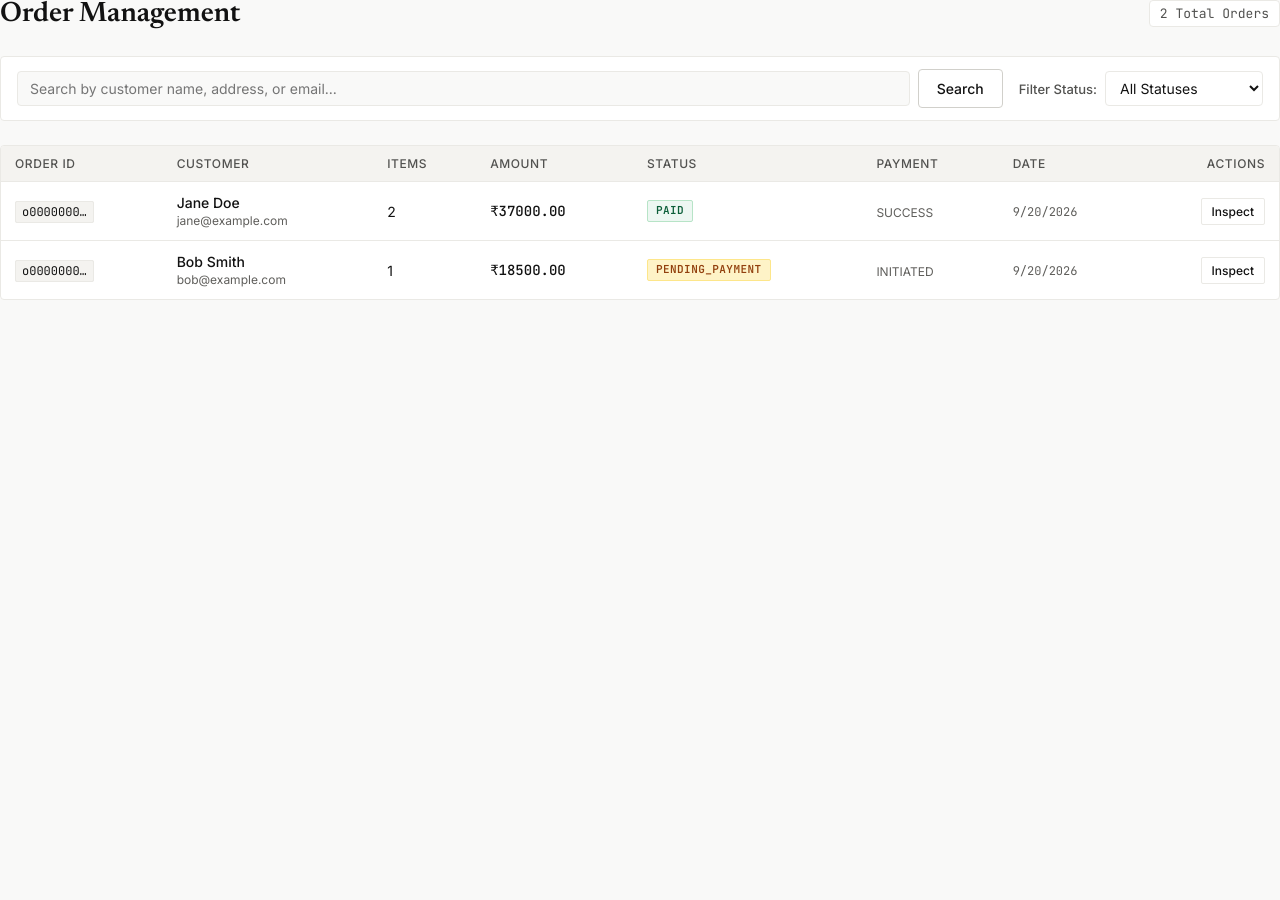
Test: AdminOrders Component (Phase 07.26B) › opens order detail inspector on inspect button click
Click the button "Inspect" in the row of "Jane Doe". click: (1233, 211)
box: [1201,198,1265,224]
(page scrolled)
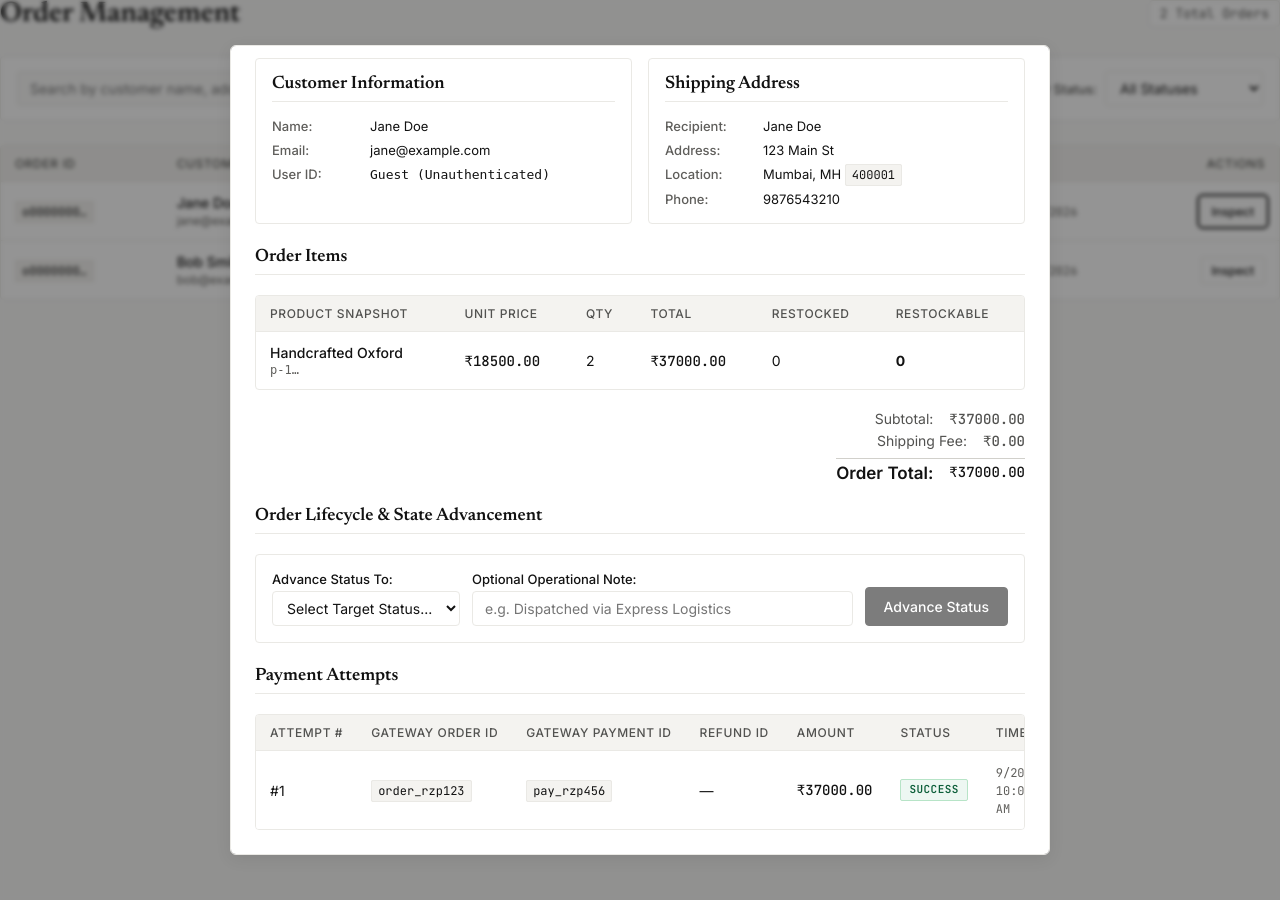
expect the heading "Customer Information" is shown: met, box [272,75,615,102]
expect the heading "Shipping Address" is shown: met, box [665,75,1008,102]
expect the text "Handcrafted Oxford" is shown: met, box [270,344,403,361]
